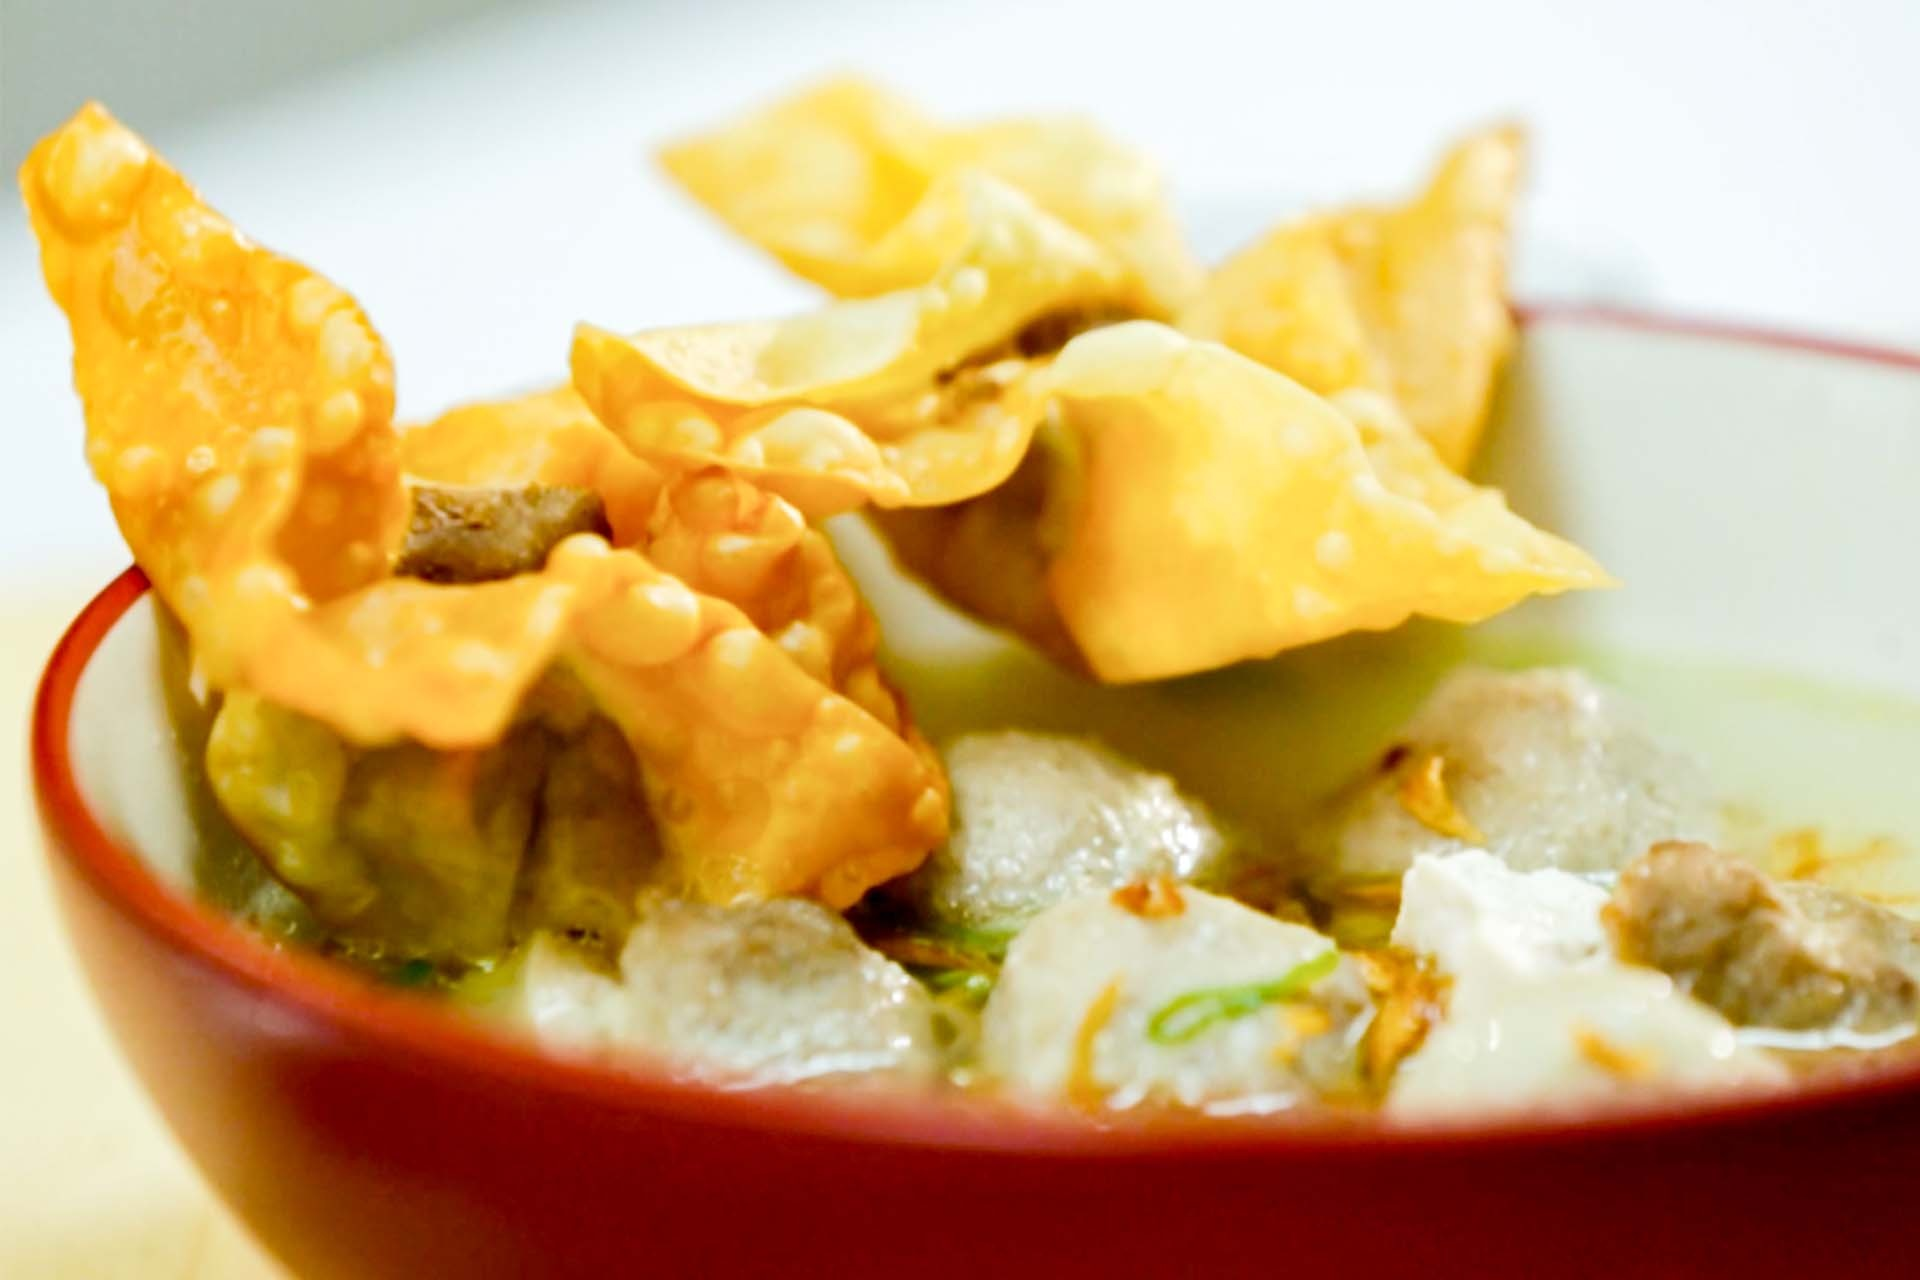bakso_malang: (26, 71, 1920, 1123)
